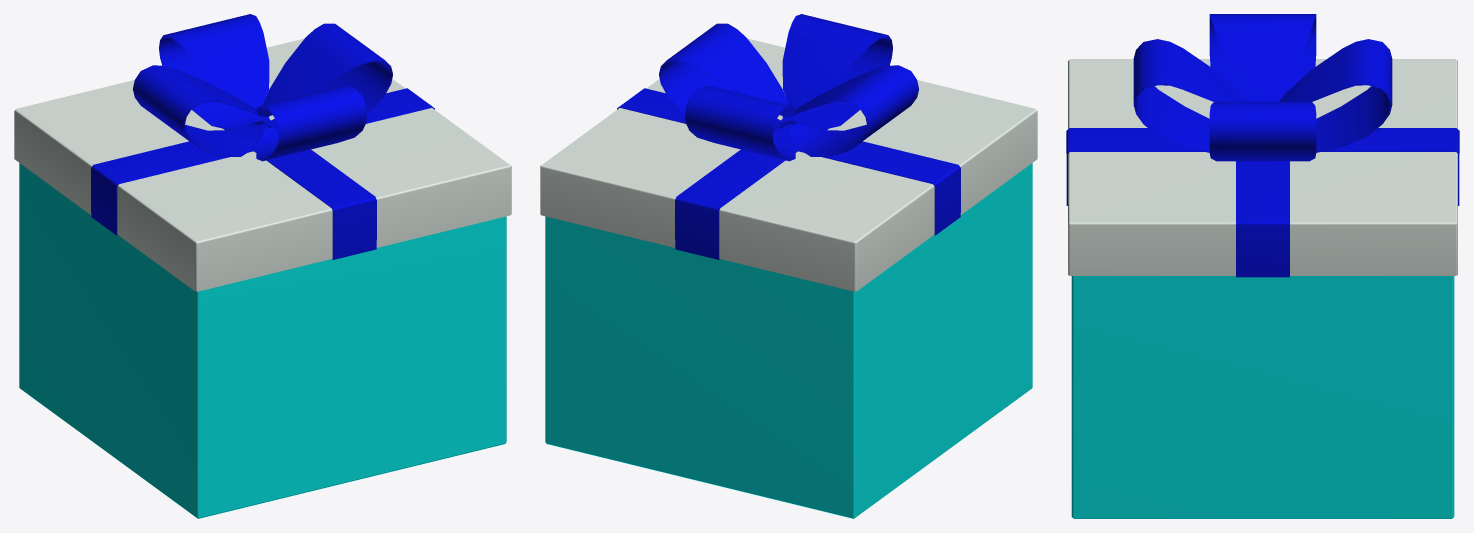
Rendered from gift_blue.glb.
3 renders of one model, left to right at view 1: azimuth 30°, elevation 25°; view 2: azimuth 150°, elevation 25°; view 3: azimuth 270°, elevation 25°, orthographic. The views are drawn at different scales.
Visible parts, largest first — view 1: SK_GiftBox.008, SK_GiftBox.007, SK_GiftBox.006; view 2: SK_GiftBox.008, SK_GiftBox.007, SK_GiftBox.006; view 3: SK_GiftBox.008, SK_GiftBox.007, SK_GiftBox.006.
Boxes of the visible parts, bbox=[...] form: SK_GiftBox.008: bbox=[19, 163, 506, 518]; SK_GiftBox.007: bbox=[14, 38, 511, 291]; SK_GiftBox.006: bbox=[91, 14, 434, 259]; SK_GiftBox.008: bbox=[545, 163, 1032, 518]; SK_GiftBox.007: bbox=[540, 38, 1037, 291]; SK_GiftBox.006: bbox=[617, 14, 960, 259]; SK_GiftBox.008: bbox=[1071, 276, 1454, 518]; SK_GiftBox.007: bbox=[1068, 59, 1457, 275]; SK_GiftBox.006: bbox=[1066, 14, 1459, 277].
Size of the model in its own units: 1.88 by 2 by 1.88.
